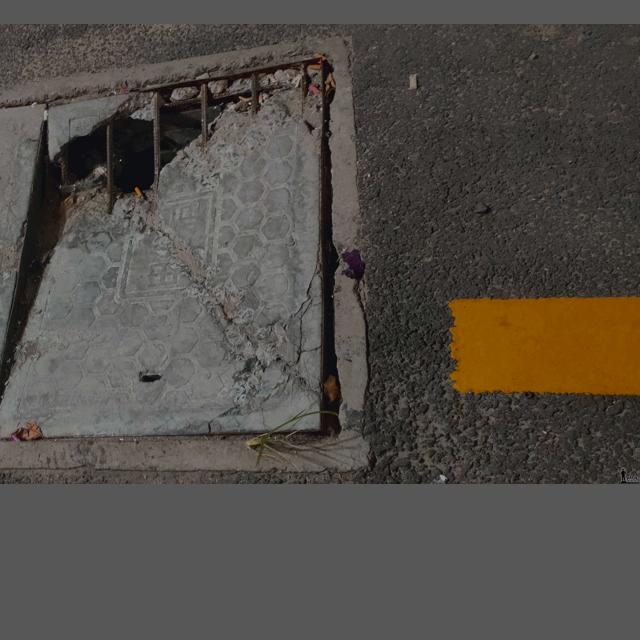broke: (0, 36, 372, 471)
